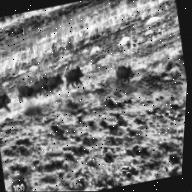boar: (114, 57, 145, 87), (69, 58, 94, 94), (14, 74, 47, 101), (0, 82, 16, 122), (49, 70, 69, 96), (41, 67, 53, 83)
